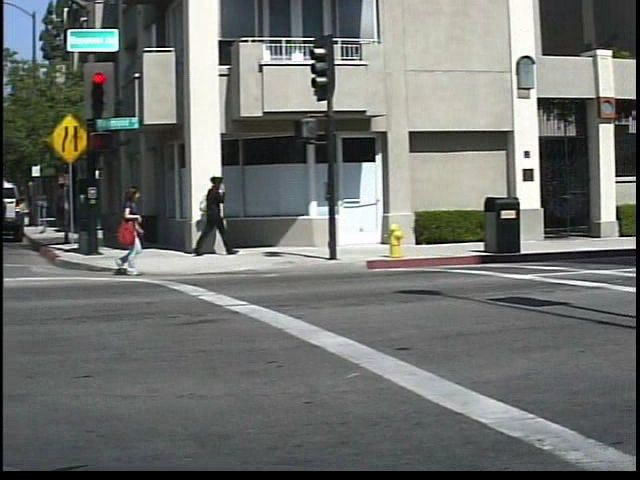person: (111, 181, 161, 275), (197, 169, 242, 258)
